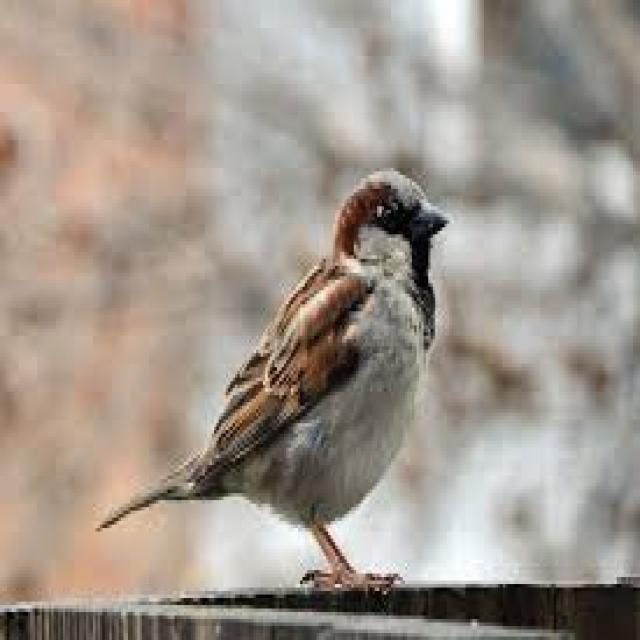Sparrow: (105, 164, 453, 586)
